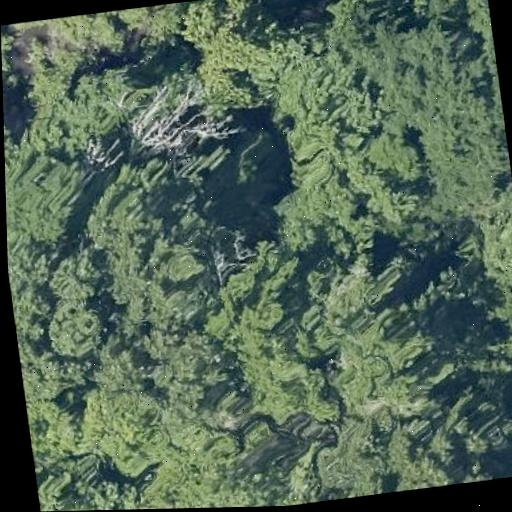tree-top: (343, 9, 512, 214), (293, 248, 442, 434), (268, 34, 387, 221), (311, 405, 480, 501), (217, 290, 314, 431), (4, 137, 102, 254), (182, 17, 293, 116), (52, 66, 153, 145), (475, 191, 512, 368), (35, 293, 109, 367), (33, 453, 122, 512)
